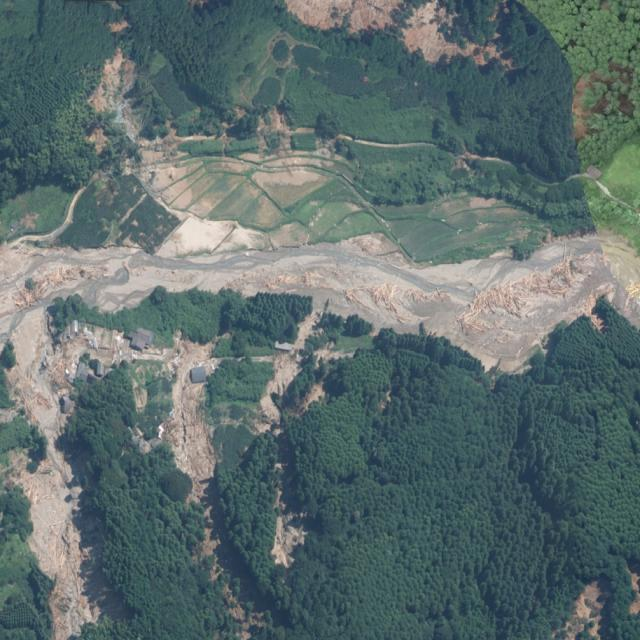landslide: (0, 217, 640, 373), (4, 304, 98, 640), (9, 443, 99, 640), (286, 0, 515, 67), (163, 338, 216, 503), (260, 312, 318, 423), (260, 353, 300, 423), (565, 582, 604, 640), (270, 515, 307, 569)
